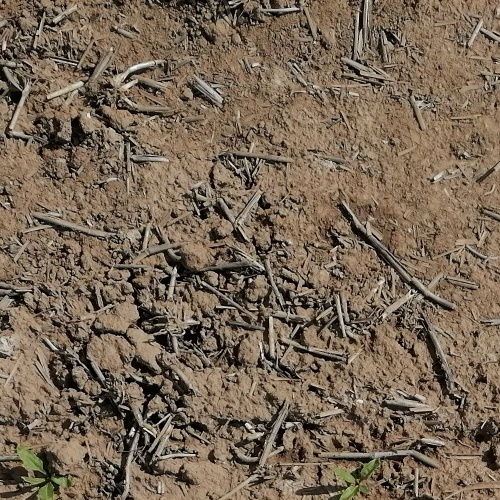beet: (17, 444, 70, 500), (335, 457, 382, 500)
